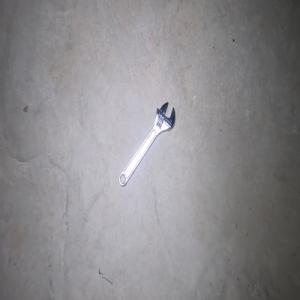Wrench: (118, 102, 175, 186)
